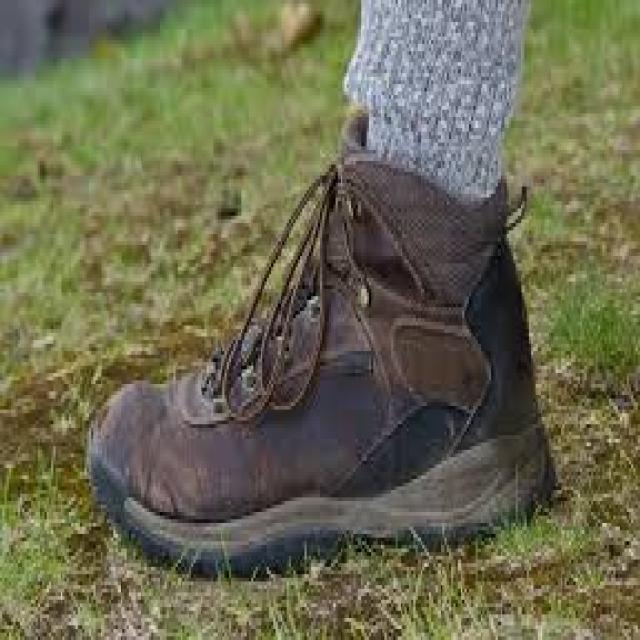shoes: (85, 95, 584, 585)
